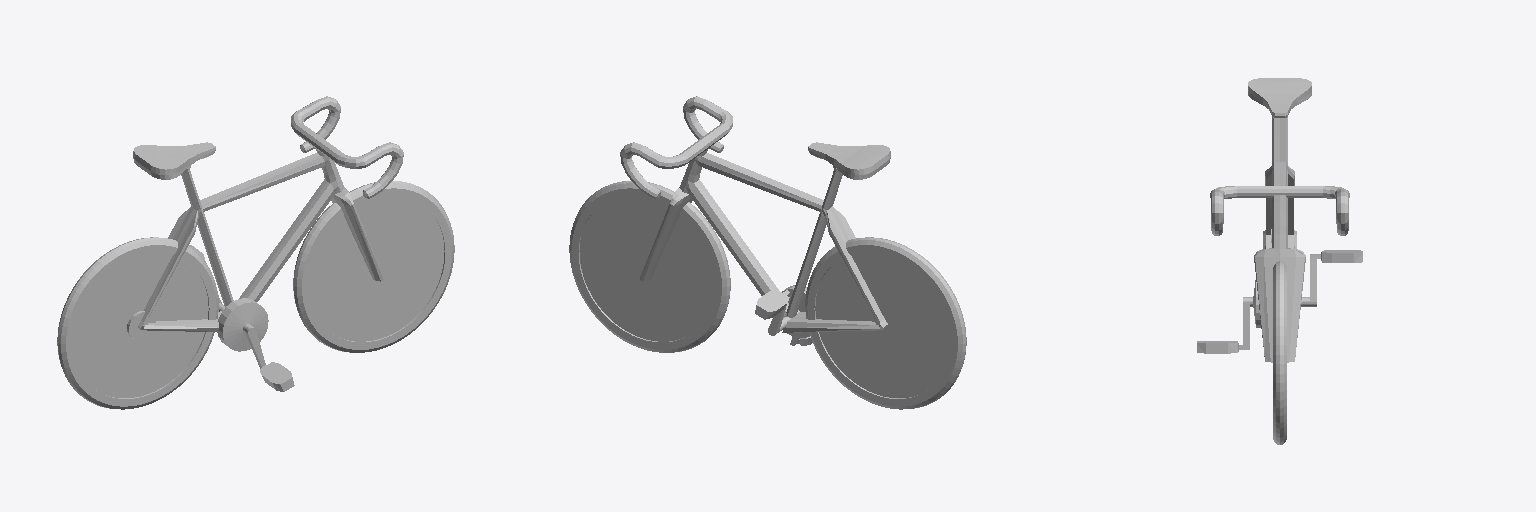
File: bicycleThicc.obj
3 views of the same model, side by side, from view 1: azimuth 30°, elevation 25°; view 2: azimuth 150°, elevation 25°; view 3: azimuth 270°, elevation 25° (orthographic).
Visible parts, largest first — view 1: pCylinder1 bicycle_GEO, bicycle_GEO pCylinder7, bicycle_GEO pCylinder2, bicycle_GEO pCylinder8, bicycle_GEO pCylinder6, bicycle_GEO pCube1; view 2: pCylinder1 bicycle_GEO, bicycle_GEO pCylinder7, bicycle_GEO pCylinder2, bicycle_GEO pCylinder8, bicycle_GEO pCube1, bicycle_GEO pCylinder6; view 3: bicycle_GEO pCylinder2, bicycle_GEO pCylinder8, pCylinder1 bicycle_GEO, bicycle_GEO pCylinder6, bicycle_GEO pCube1.
Boxes of the visible parts, x1,y1,x2,y2 form: pCylinder1 bicycle_GEO: [293, 181, 454, 352]; bicycle_GEO pCylinder7: [57, 237, 218, 409]; bicycle_GEO pCylinder2: [138, 148, 383, 331]; bicycle_GEO pCylinder8: [291, 96, 403, 198]; bicycle_GEO pCylinder6: [189, 245, 294, 391]; bicycle_GEO pCube1: [133, 142, 215, 179]; pCylinder1 bicycle_GEO: [569, 181, 730, 352]; bicycle_GEO pCylinder7: [805, 237, 966, 409]; bicycle_GEO pCylinder2: [640, 148, 887, 332]; bicycle_GEO pCylinder8: [620, 96, 732, 198]; bicycle_GEO pCube1: [808, 142, 890, 179]; bicycle_GEO pCylinder6: [755, 285, 812, 345]; bicycle_GEO pCylinder2: [1254, 117, 1305, 362]; bicycle_GEO pCylinder8: [1210, 186, 1349, 235]; pCylinder1 bicycle_GEO: [1273, 261, 1286, 444]; bicycle_GEO pCylinder6: [1197, 250, 1362, 353]; bicycle_GEO pCube1: [1248, 78, 1311, 117].
Bounding box in the file's own units: 53.26 × 31.71 × 19.43.